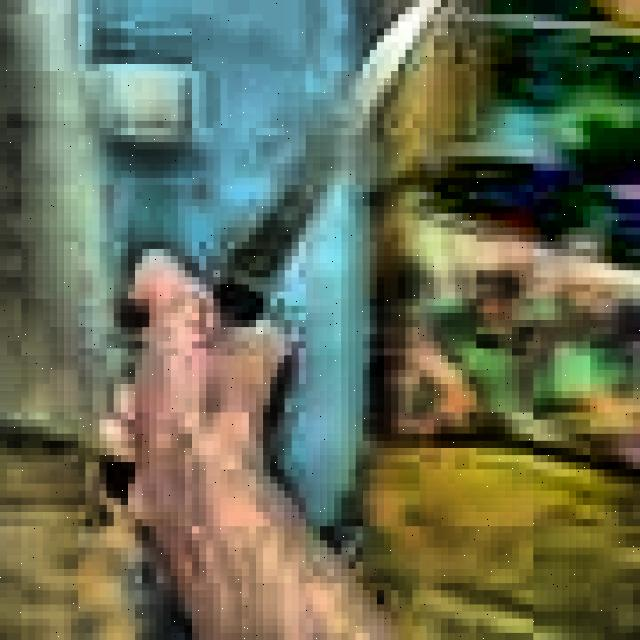knife: (107, 0, 441, 484)
